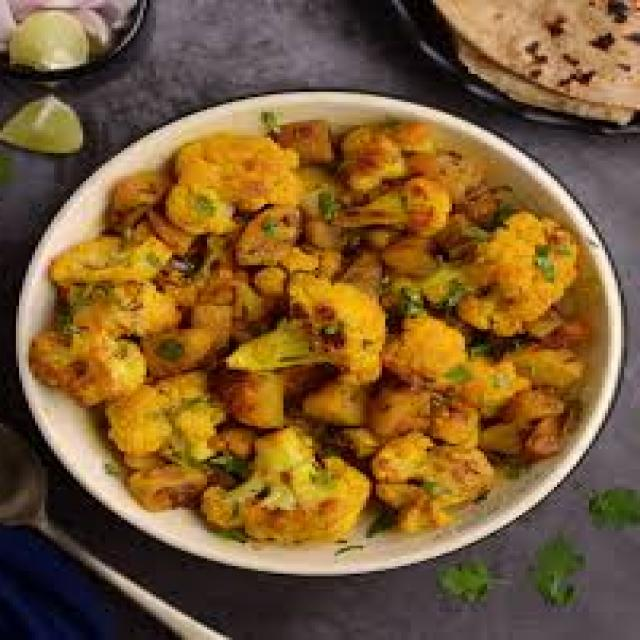Aloo Gobi: (117, 130, 516, 530)
